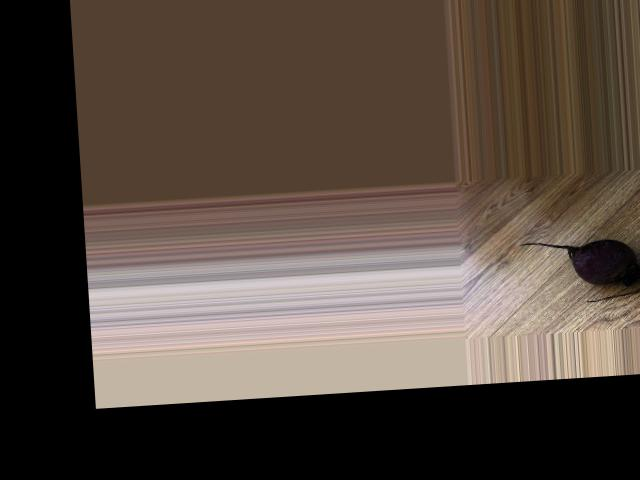beet: (519, 235, 640, 306)
